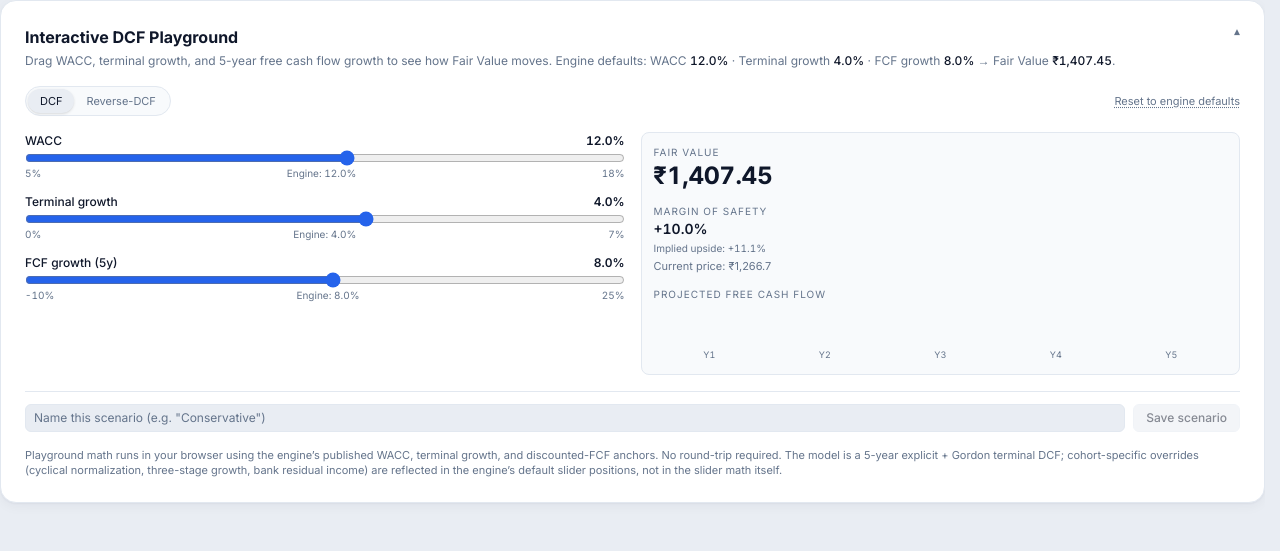
Test: InteractiveDcfPlayground — Save Scenario › restores slider state when a chip is clicked
The width and height of the screenshot is (1280, 551).
# Move the WACC slider and save the scenario.
Set the slider with test id "slider-wacc" to "16": x=527, y=158 left=25, top=154, right=624, bottom=162
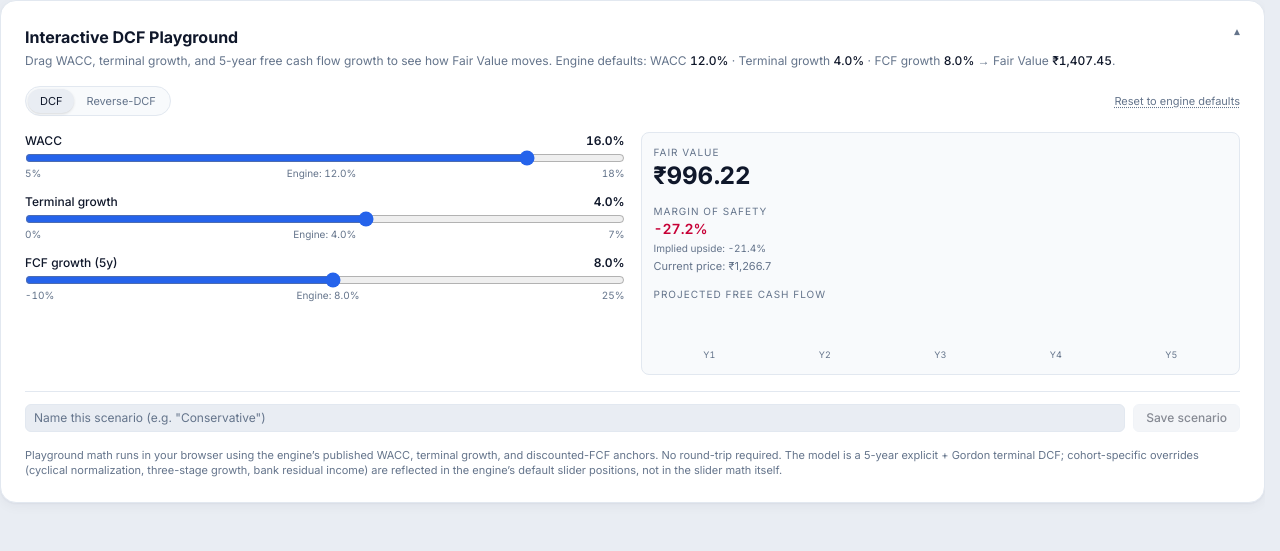
In the field with test id "playground-scenario-input": x=575, y=418 left=25, top=404, right=1125, bottom=432, type "BearCase"
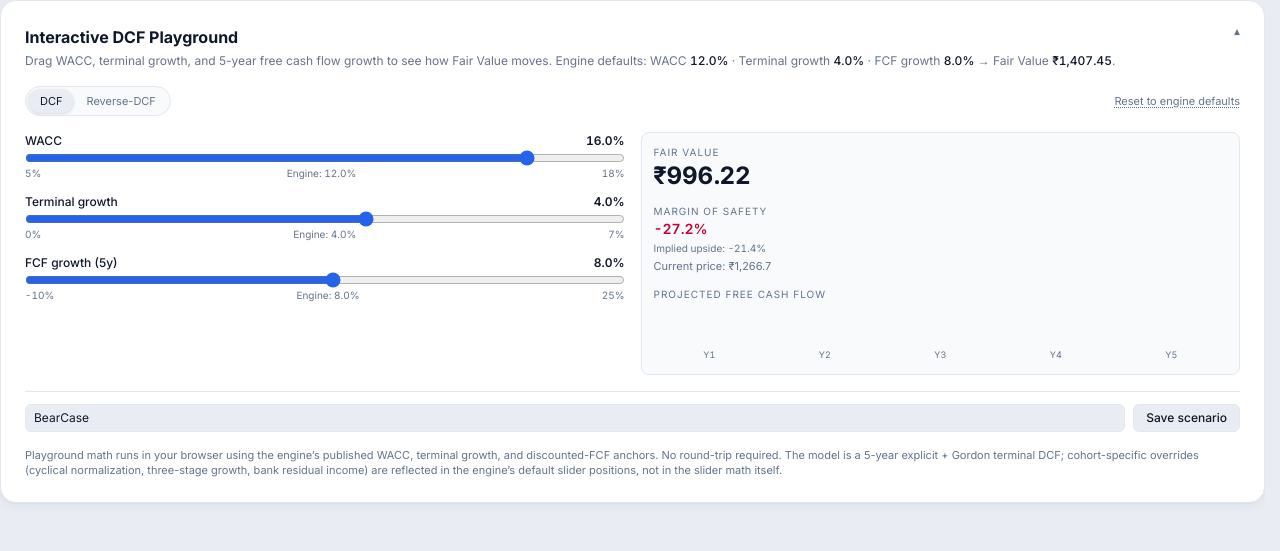
Click the button with test id "playground-save-scenario": x=1187, y=418 left=1133, top=404, right=1240, bottom=432
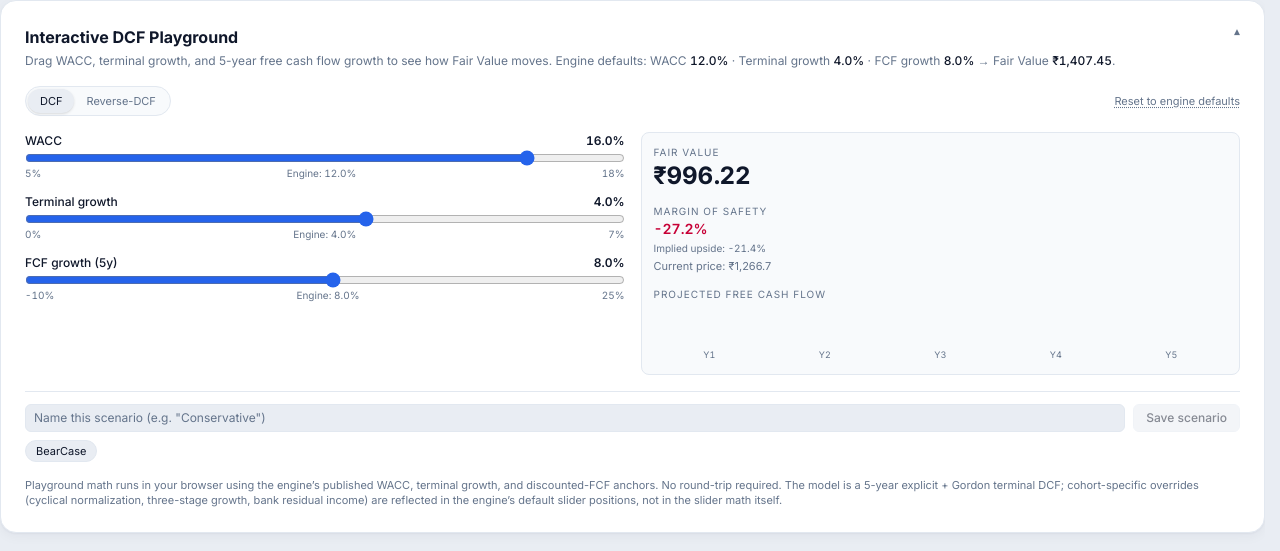
# Move the slider somewhere else.
Set the slider with test id "slider-wacc" to "10": x=257, y=158 left=25, top=154, right=624, bottom=162
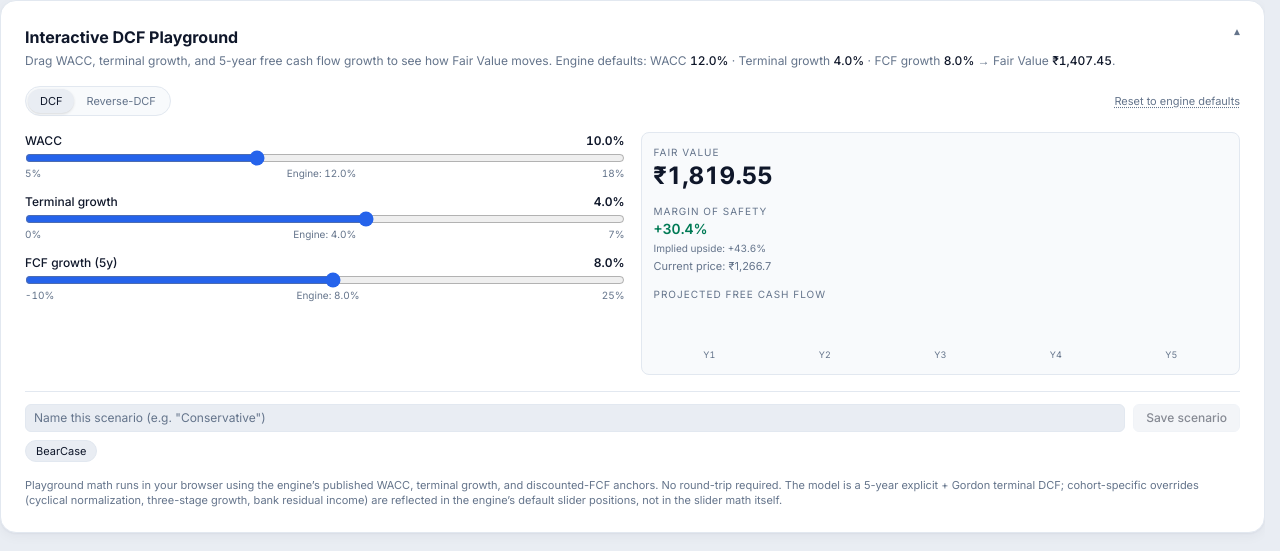
Expected: the text with test id "slider-wacc-value" shows "10.0", left=586, top=133, right=612, bottom=148
# Click the chip — slider snaps back to 16%.
Click the button with test id "playground-scenario-chip-BearCase": x=61, y=451 left=25, top=440, right=98, bottom=462
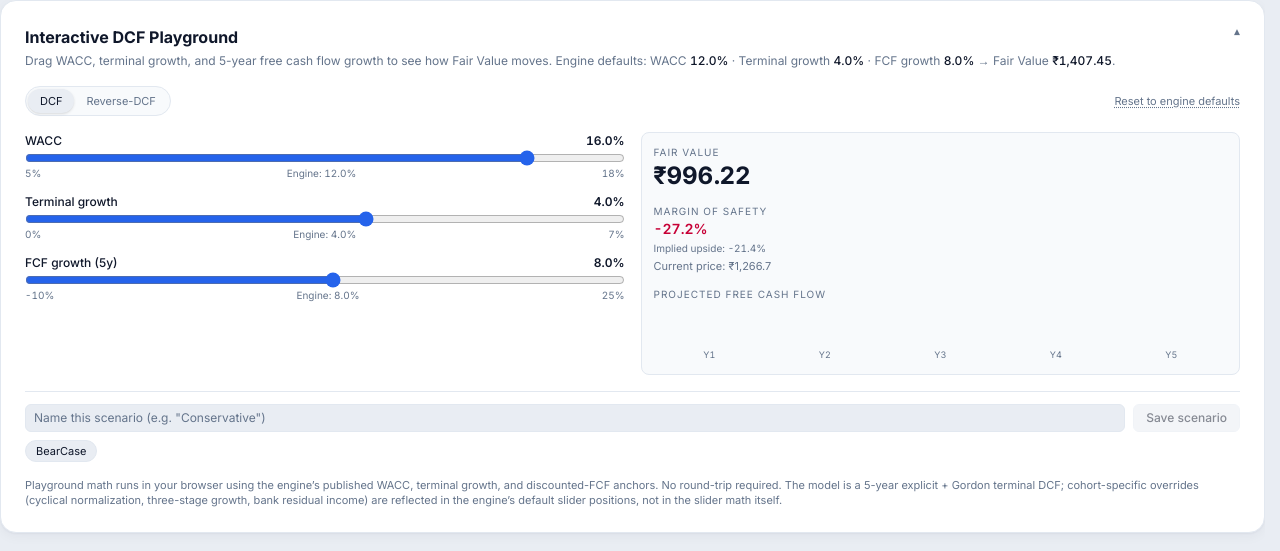
Expected: the text with test id "slider-wacc-value" shows "16.0", left=586, top=133, right=612, bottom=148
